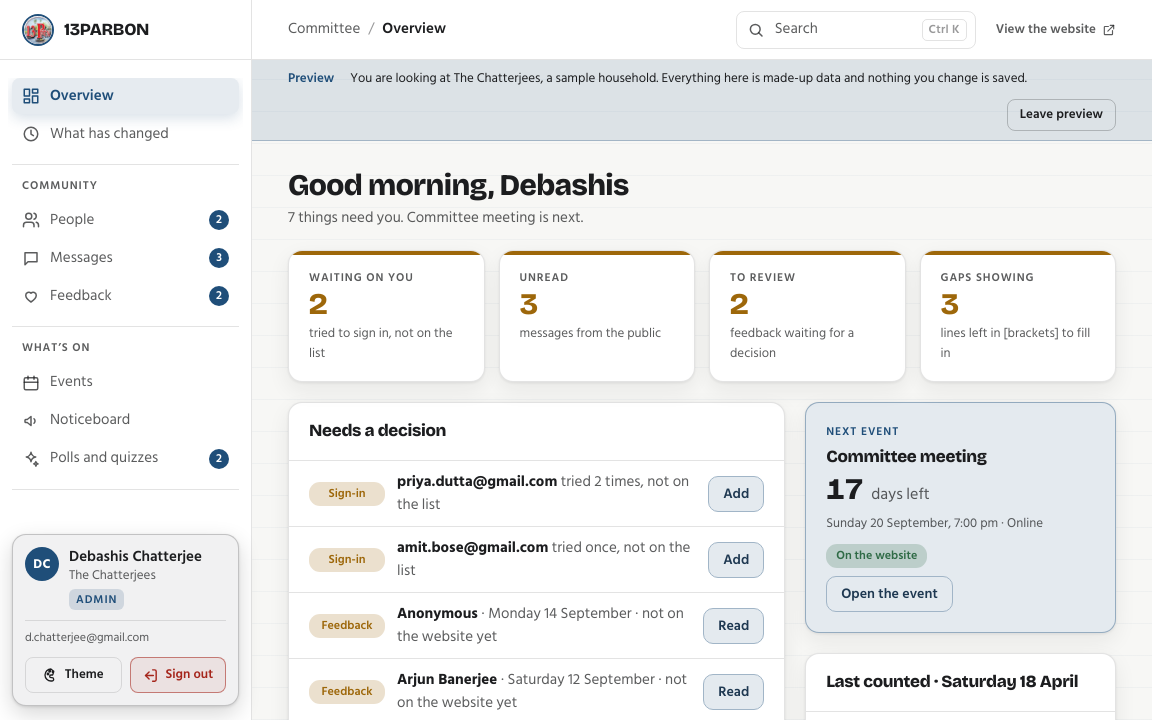
Test case: the committee’s search › opens a poll ready to change
The width and height of the screenshot is (1152, 720).
Click the button "Search Ctrl K". click: (856, 30)
box: [736,10,976,48]
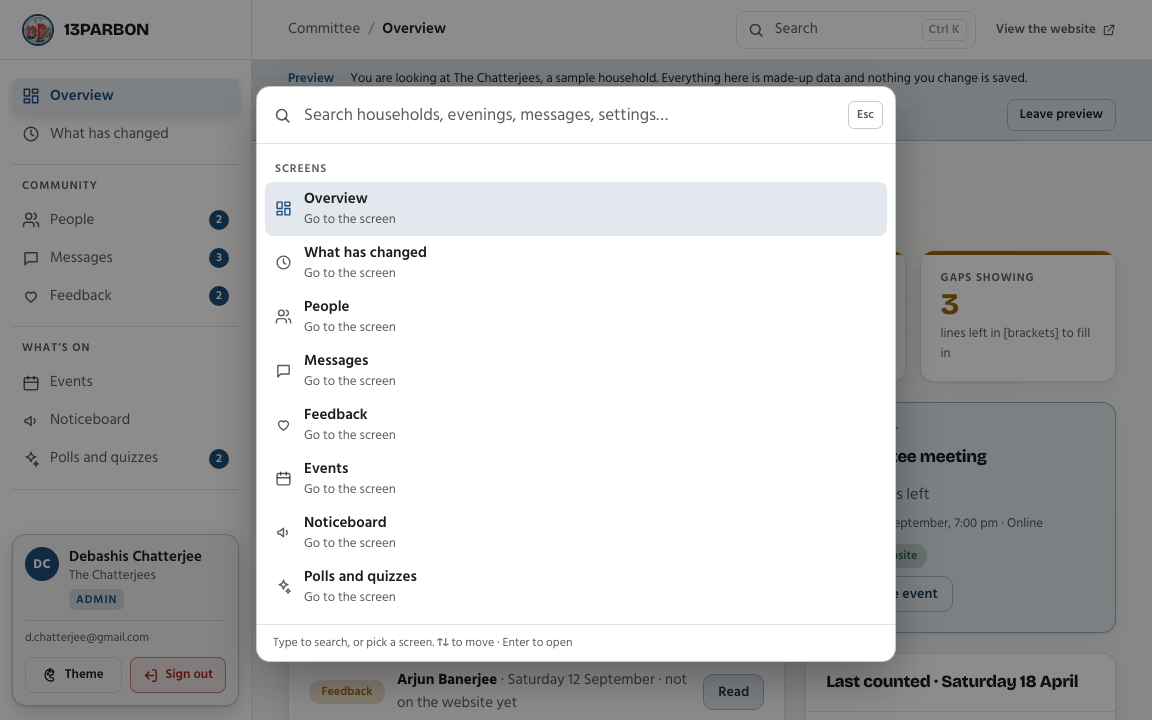
Type "autumn picnic" into the dropdown. click: (570, 115)
box: [302,87,838,143]
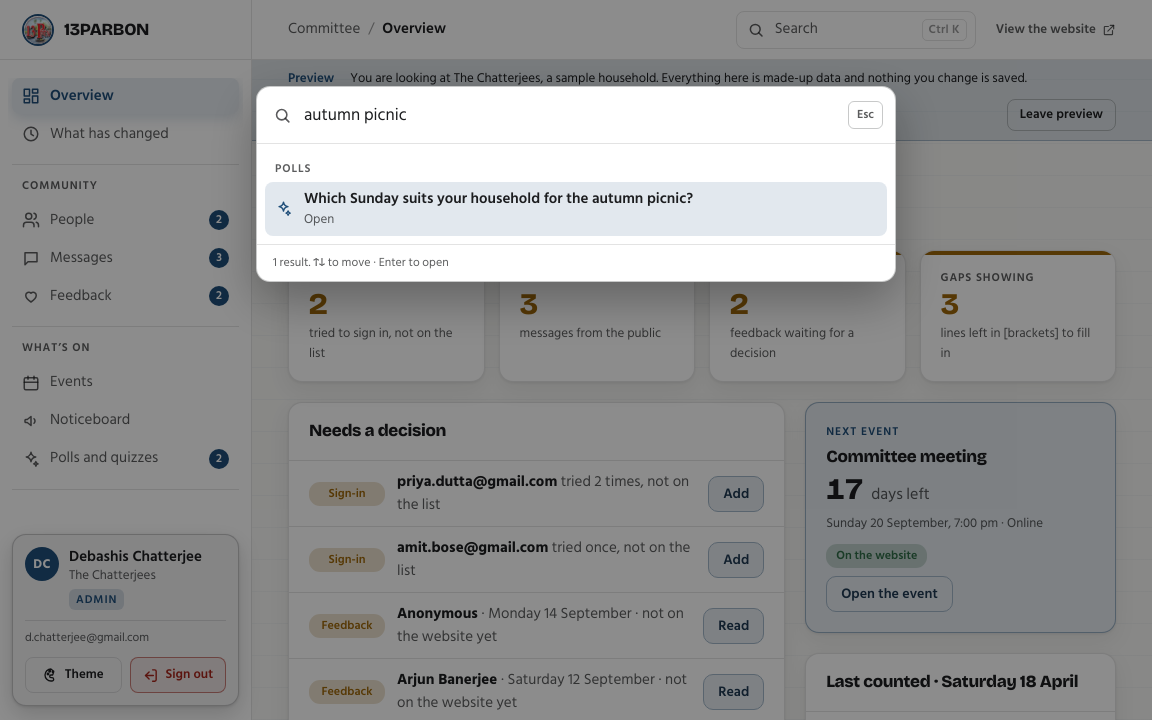
Click the option "autumn picnic". click: (576, 209)
box: [265,182,887,236]
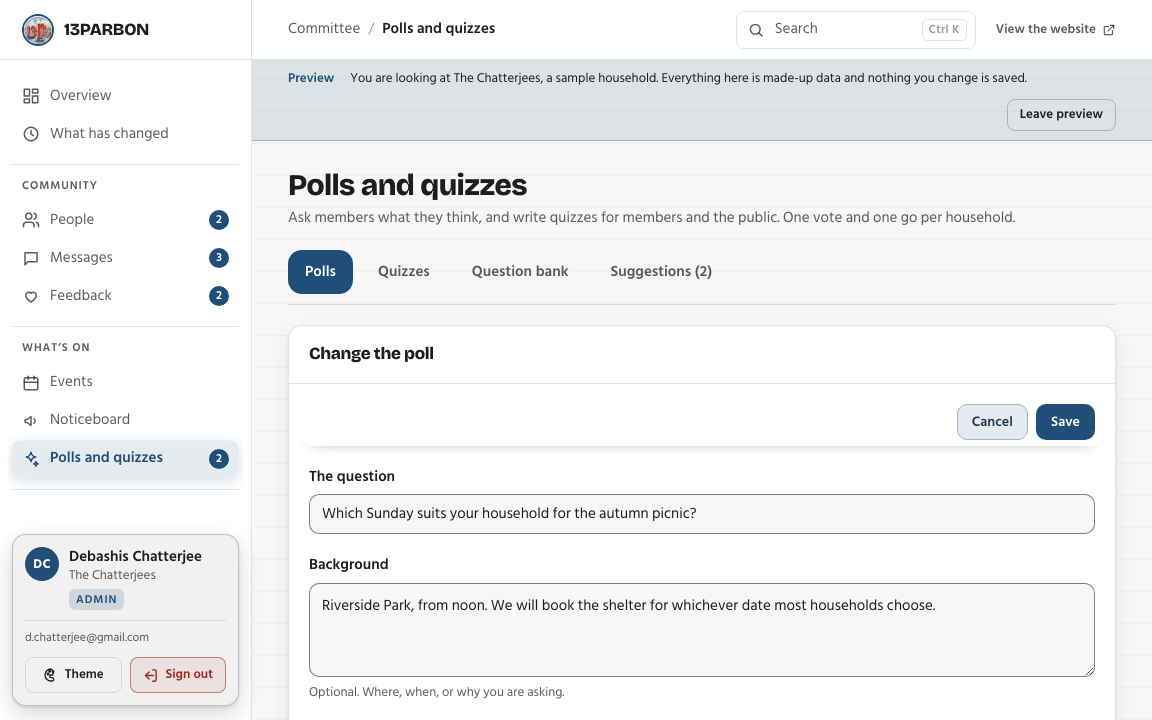
Now the heading "Change the poll" is shown, box [309,345,434,364]
